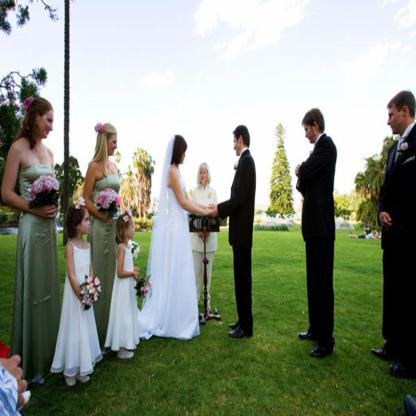face: (388, 107, 404, 135), (40, 109, 54, 139), (79, 209, 91, 235), (305, 122, 316, 145), (108, 132, 118, 156), (234, 134, 243, 157), (128, 218, 136, 241), (200, 169, 209, 186), (179, 144, 186, 165)
